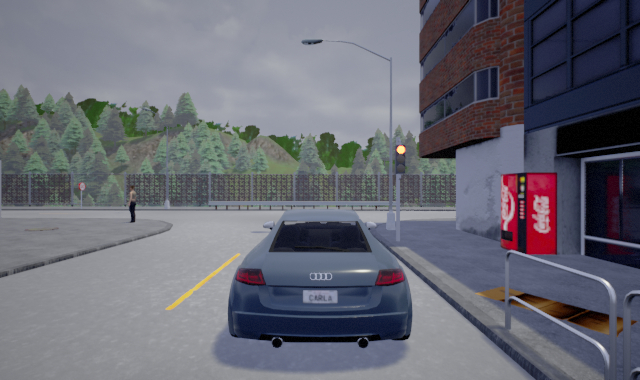pedestrian: (122, 183, 144, 222)
traffic_light: (395, 144, 406, 175)
traffic_sign: (78, 181, 87, 191)
vehicle: (226, 208, 412, 351)
